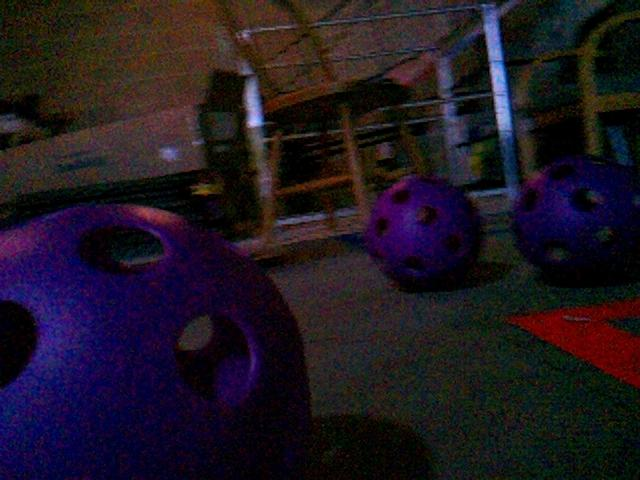Purple: (2, 205, 315, 479), (508, 154, 640, 286), (361, 173, 482, 291)
